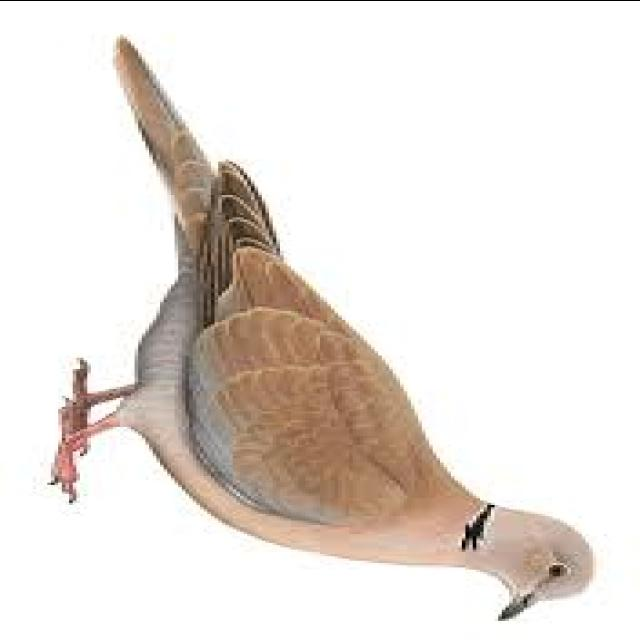pigeon: (0, 36, 640, 640)
